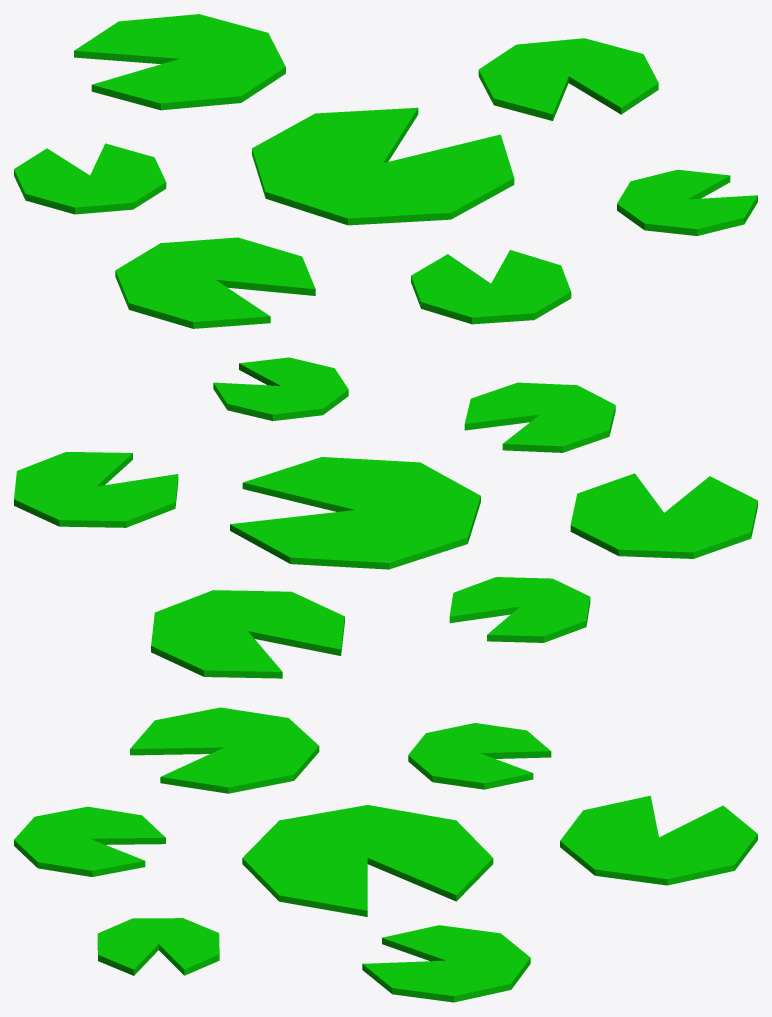
File: Lilypad1.fbx
The picture shows the model from 3 angles, top to bottom: view 1: azimuth 30°, elevation 25°; view 2: azimuth 150°, elevation 25°; view 3: azimuth 270°, elevation 25°; orthographic projection. The views are drawn at different scales.
Visible parts, largest first — view 1: LilyPad1; view 2: LilyPad1; view 3: LilyPad1.
Boxes of the visible parts, x1=… form: LilyPad1: x1=14, y1=14, x2=757, y2=328; LilyPad1: x1=14, y1=357, x2=757, y2=678; LilyPad1: x1=14, y1=707, x2=757, y2=1002.
Bounding box in the file's own units: 139 × 1.41 × 151.
